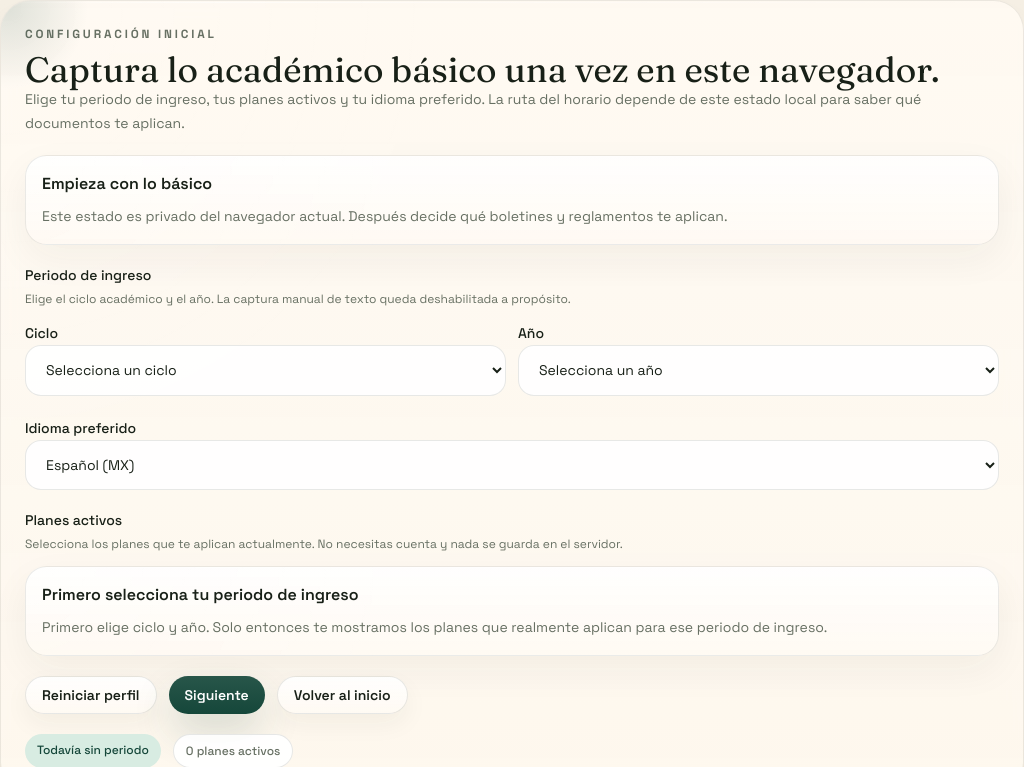
Scenario: OnboardingPanel › filters active plans to the selected entry term
Step 1. Select "Otoño" in the dropdown labelled "Ciclo" → (266, 370), box [25,345,506,396]
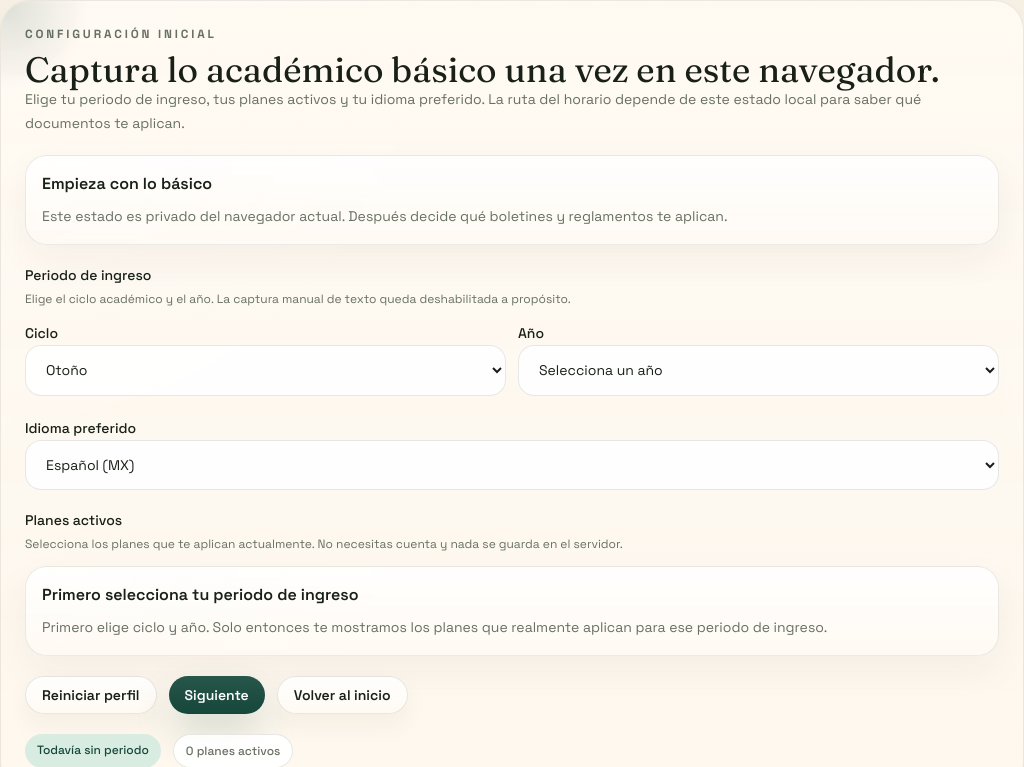
Step 2. Select "2025" in the dropdown labelled "Año" → (758, 370), box [518,345,999,396]
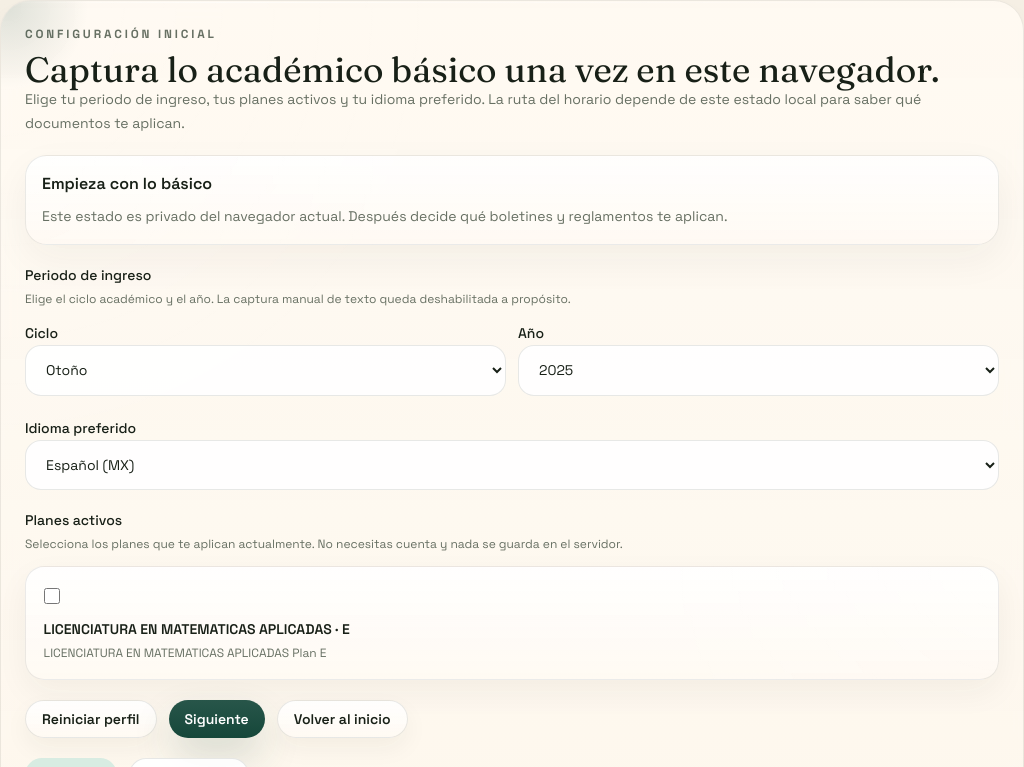
Check: the text "LICENCIATURA EN MATEMATICAS APLICADAS · E" is shown, box [44,620,350,638]
